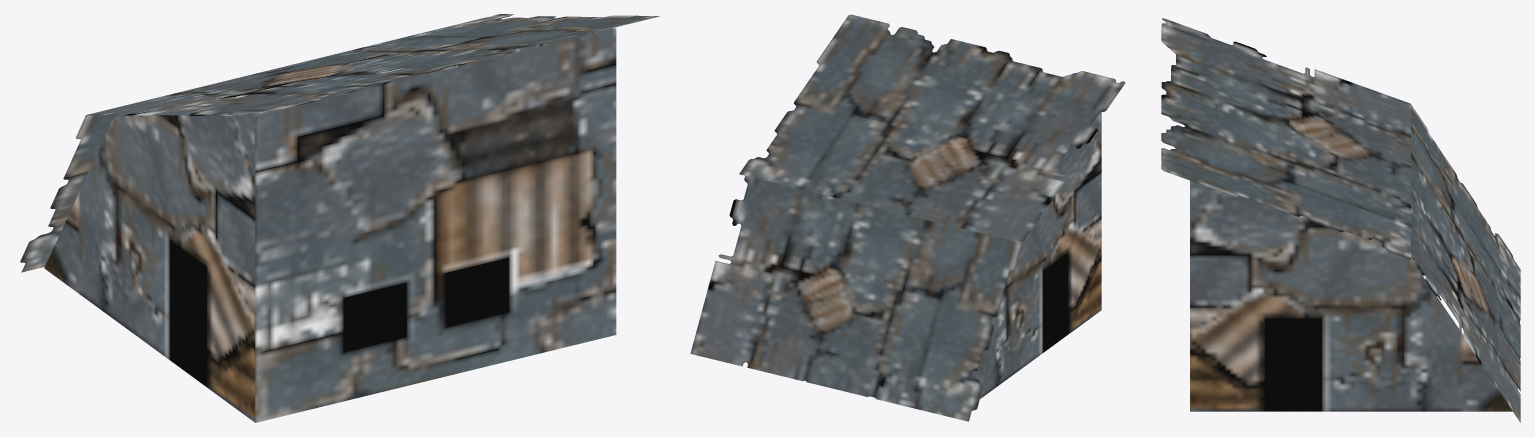
The model's file is crashshanty2.glb.
3 views of the same model, side by side, from view 1: azimuth 30°, elevation 25°; view 2: azimuth 150°, elevation 25°; view 3: azimuth 270°, elevation 25° (orthographic). The views are drawn at different scales.
Visible parts, largest first — view 1: CrashShanty; view 2: CrashShanty; view 3: CrashShanty.
Boxes of the visible parts, x1,y1,x2,y2 form: CrashShanty: (20, 14, 659, 422); CrashShanty: (690, 14, 1124, 421); CrashShanty: (1161, 18, 1520, 422).
Bounding box in the file's own units: 5.72 × 4.31 × 5.56.
Materials: 1 (1 with a texture image).
